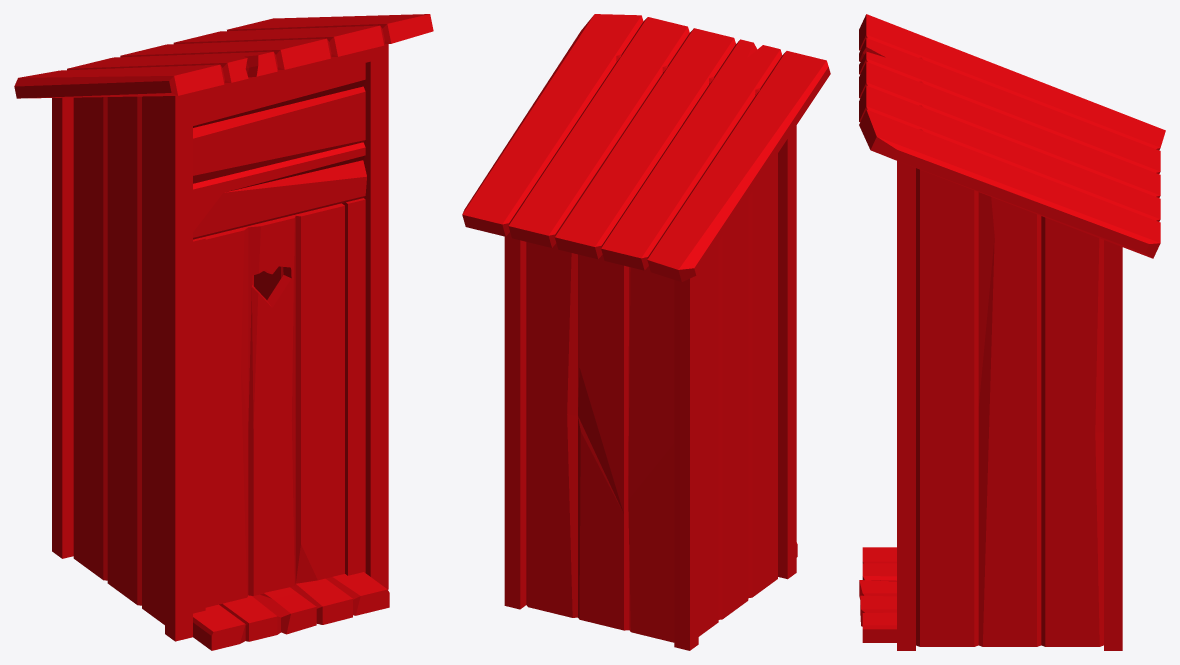
Rendered from outhouse-small-summer-camp.fbx.
The picture shows the model from 3 angles, left to right: view 1: azimuth 30°, elevation 25°; view 2: azimuth 150°, elevation 25°; view 3: azimuth 270°, elevation 25°; orthographic projection. The views are drawn at different scales.
Parts seen in each view (by area): view 1: outhouse-small-base-summer-camp, outhouse-small-door-summer-camp; view 2: outhouse-small-base-summer-camp; view 3: outhouse-small-base-summer-camp.
Part boxes in pixels (box(x1,y1,x2,y2)): outhouse-small-base-summer-camp: box(14, 14, 433, 650); outhouse-small-door-summer-camp: box(204, 203, 344, 607); outhouse-small-base-summer-camp: box(462, 14, 830, 650); outhouse-small-base-summer-camp: box(859, 14, 1165, 650).
Size of the model in its own units: 1.52 by 3.13 by 1.63.
